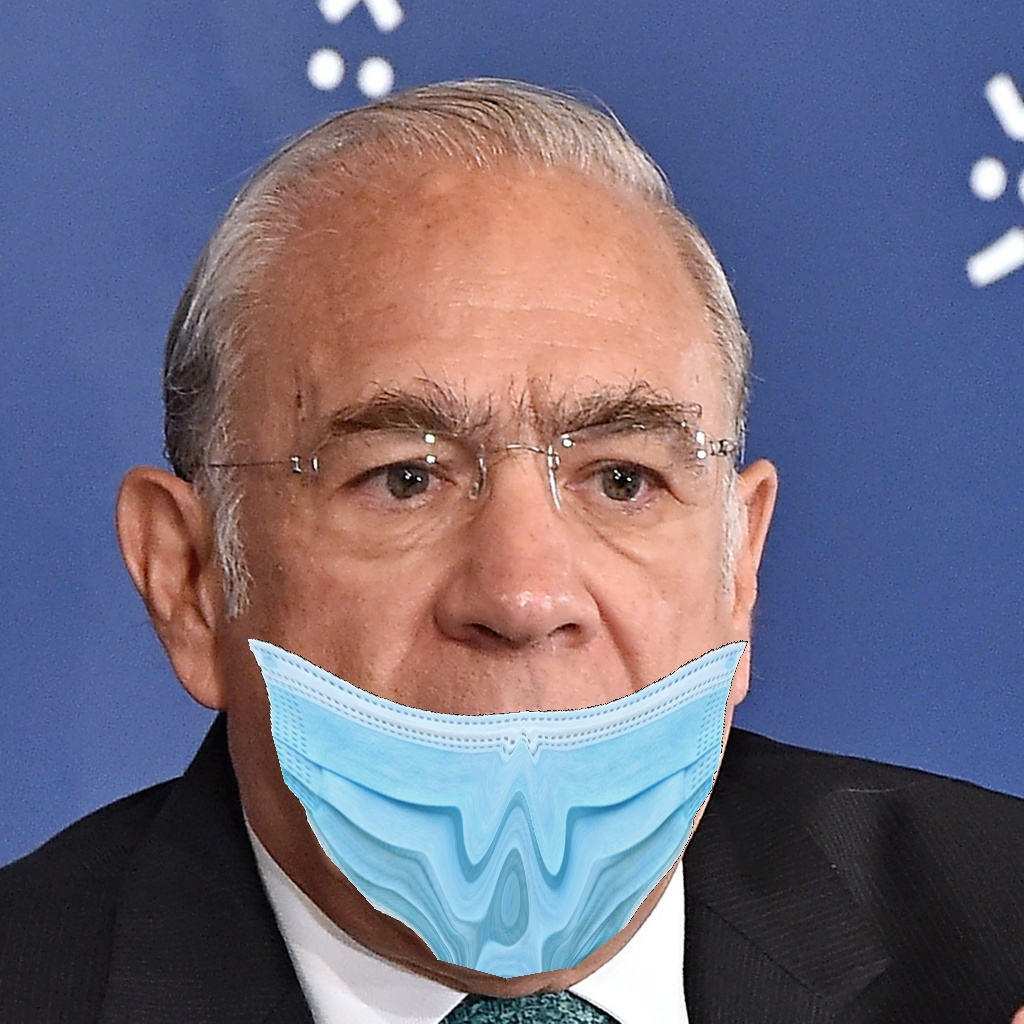mask_weared_incorrect: (227, 378, 742, 976)
